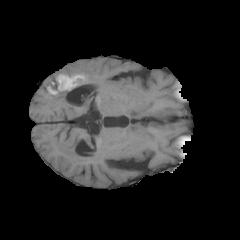glioma: (46, 71, 96, 165)
